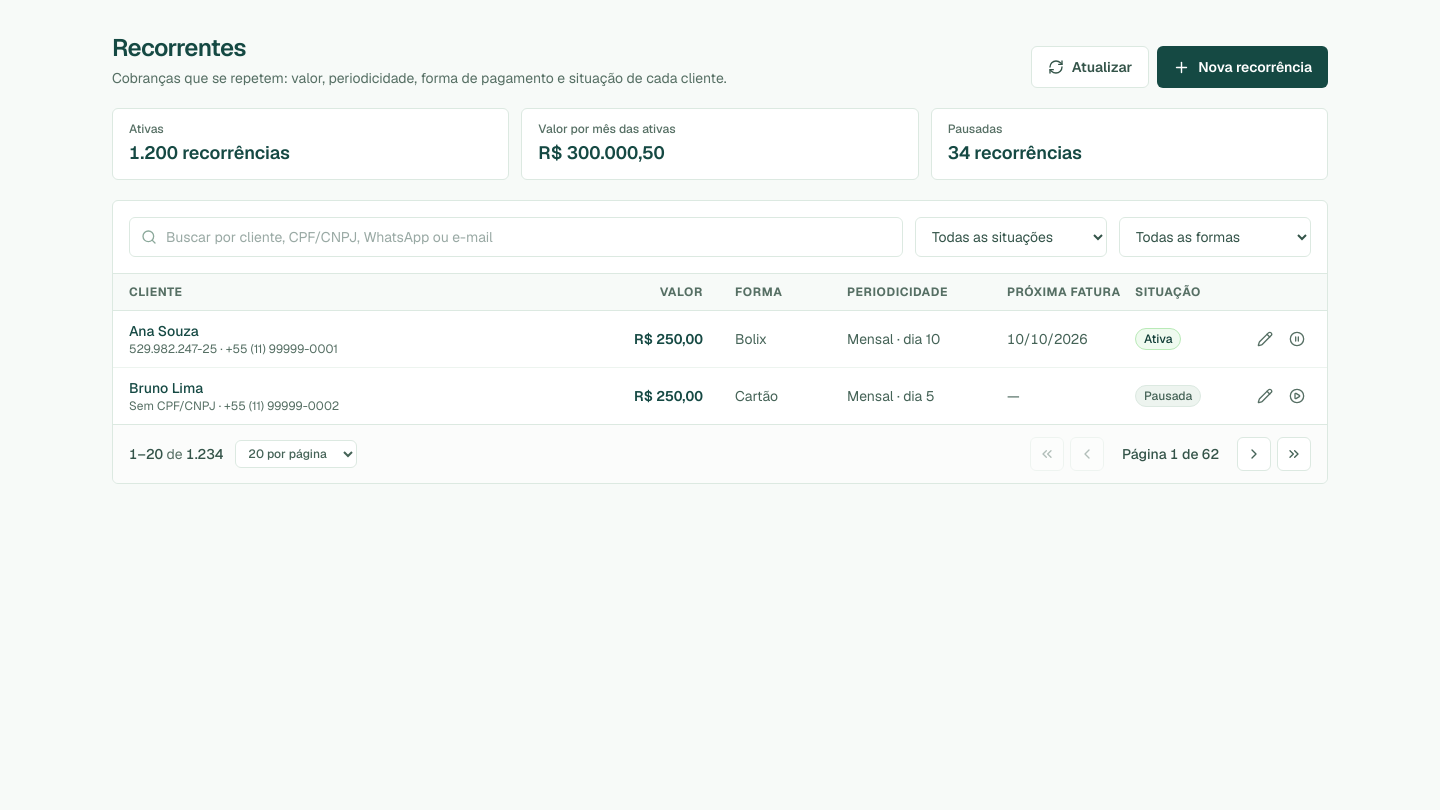
RecorrentesPage › shows form errors inside the edit dialog
expect the table is shown: met, box x1=113 y1=274 x2=1327 y2=424
Step 1. Click the button named "Editar recorrência de Ana Souza" → (1265, 339), box x1=1251 y1=325 x2=1279 y2=353
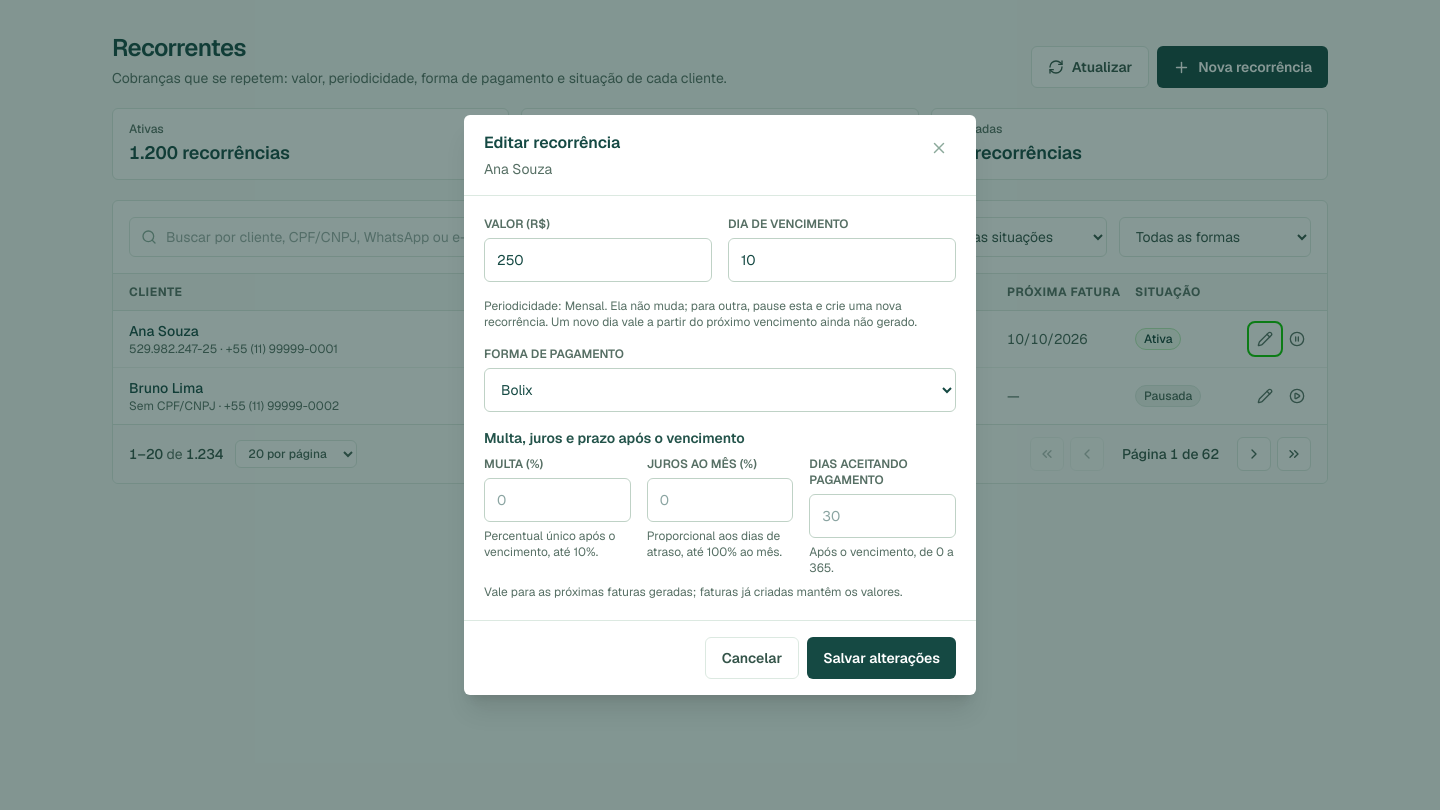
Step 2. Replace the text in the number field showing "250" with "0" → (598, 260), box x1=484 y1=238 x2=712 y2=282
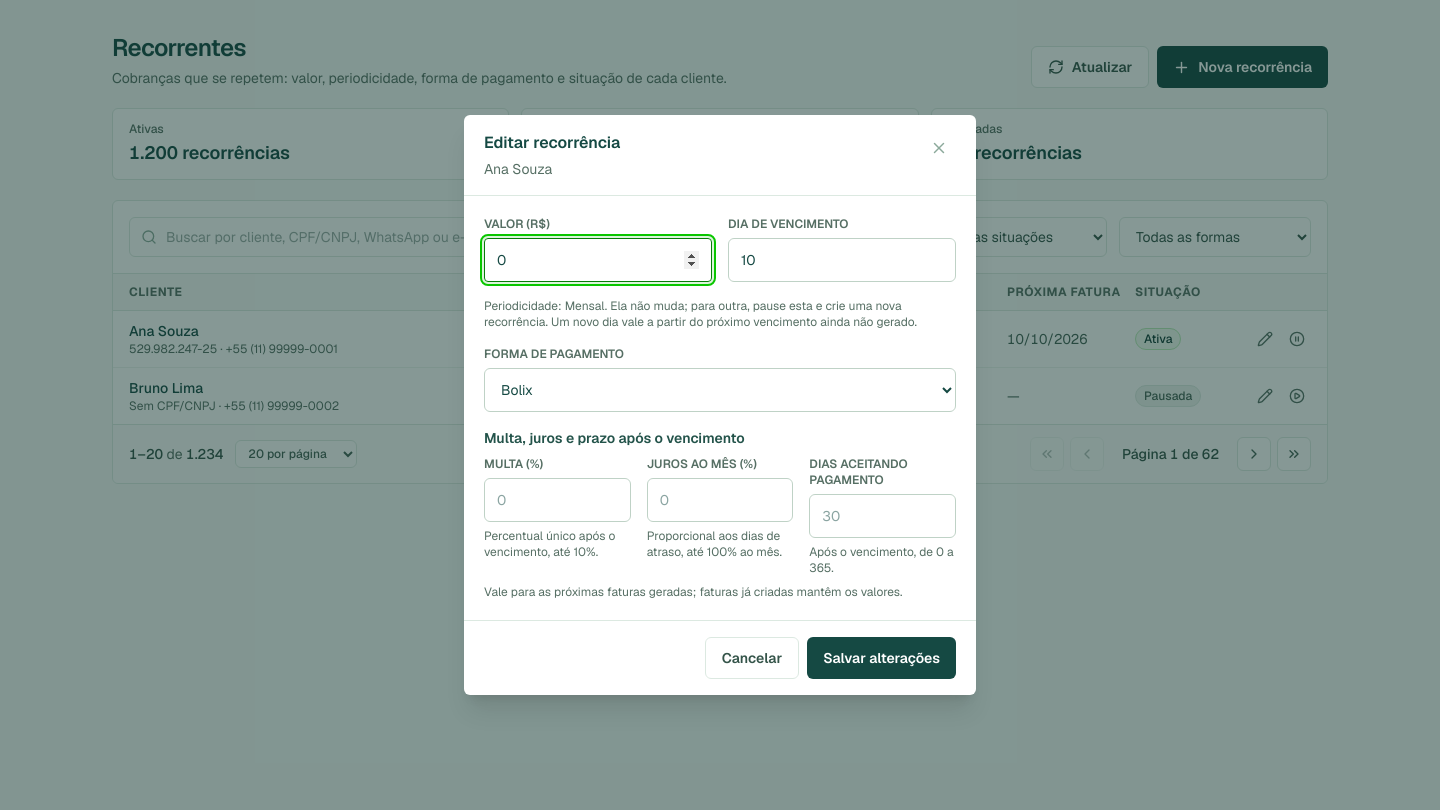
Step 3. Click the button "Salvar alterações" → (882, 658), box x1=807 y1=637 x2=956 y2=679
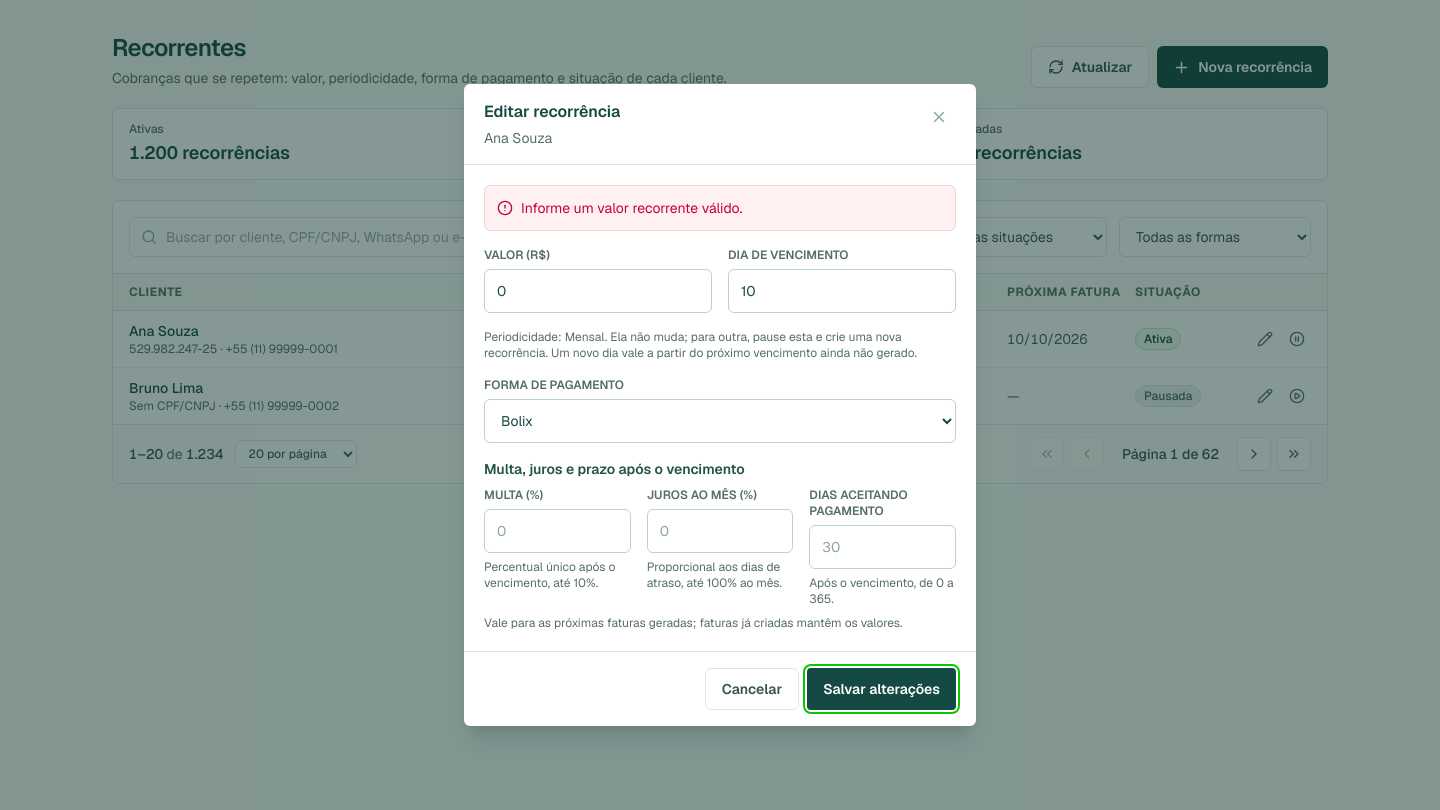
expect the message reads "Informe um valor recorrente válido.": met, box x1=521 y1=199 x2=742 y2=217
